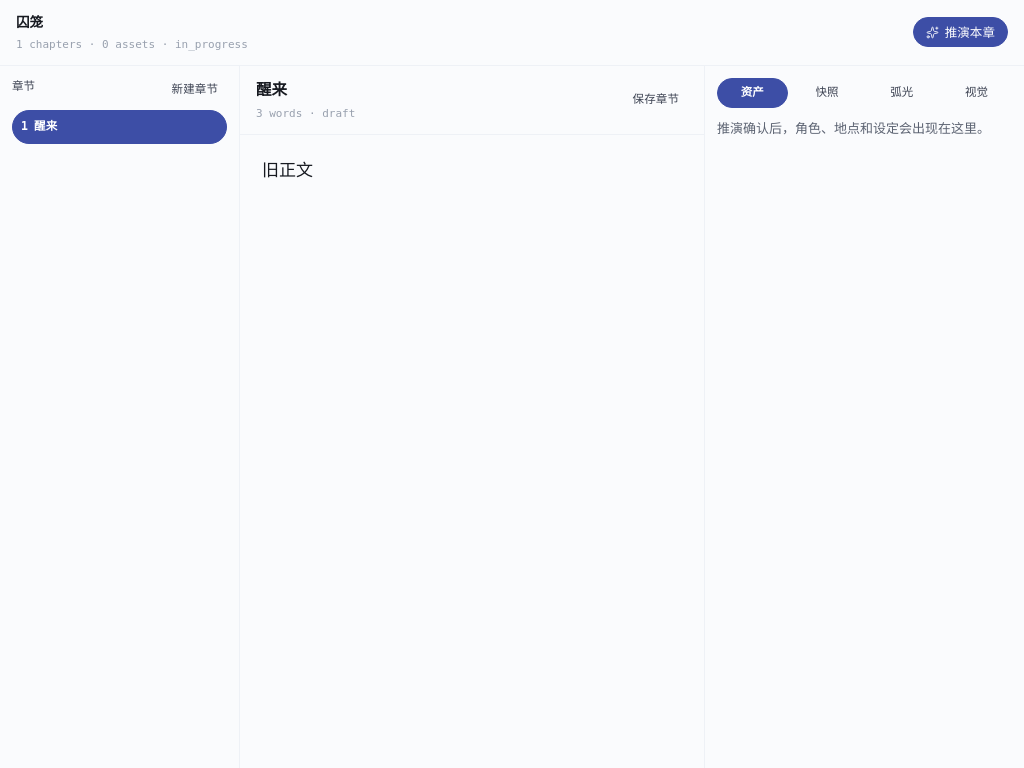
Test: StoryWorkbench › does not show the review card when the latest pending review progression has no output
Expected: the heading "囚笼" is shown, [16,14,43,30]
Click the tab "弧光" at (902, 93), box [866,78,937,108]
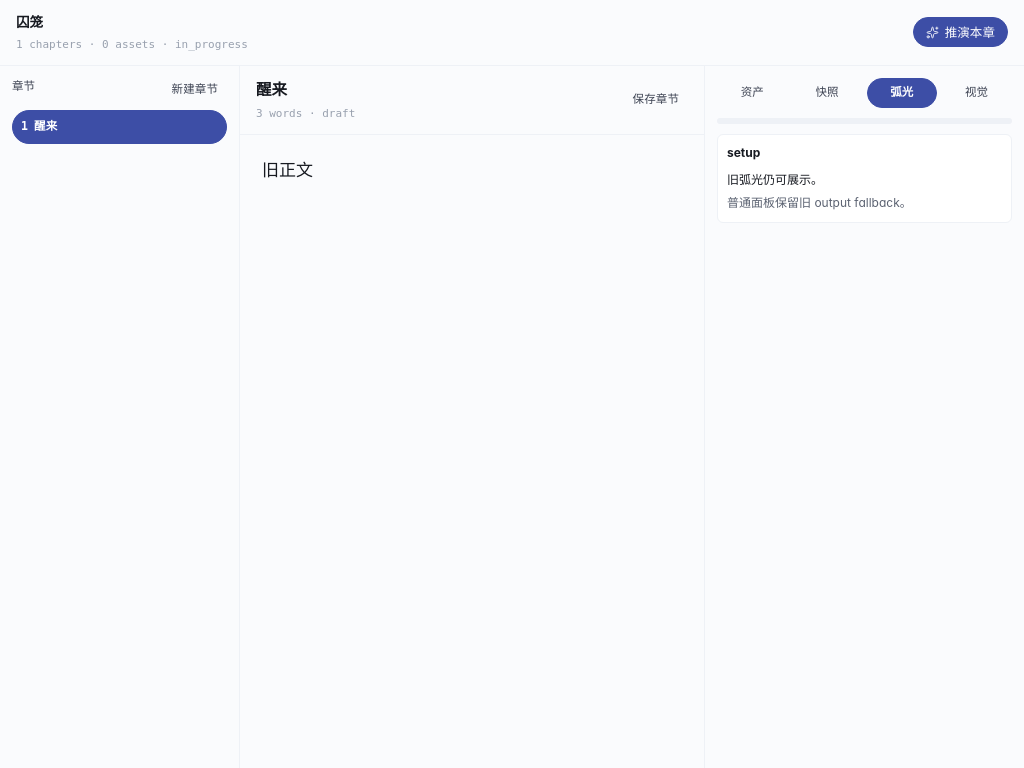
Result: the text "旧弧光仍可展示。" is shown at [727,172,823,187]
